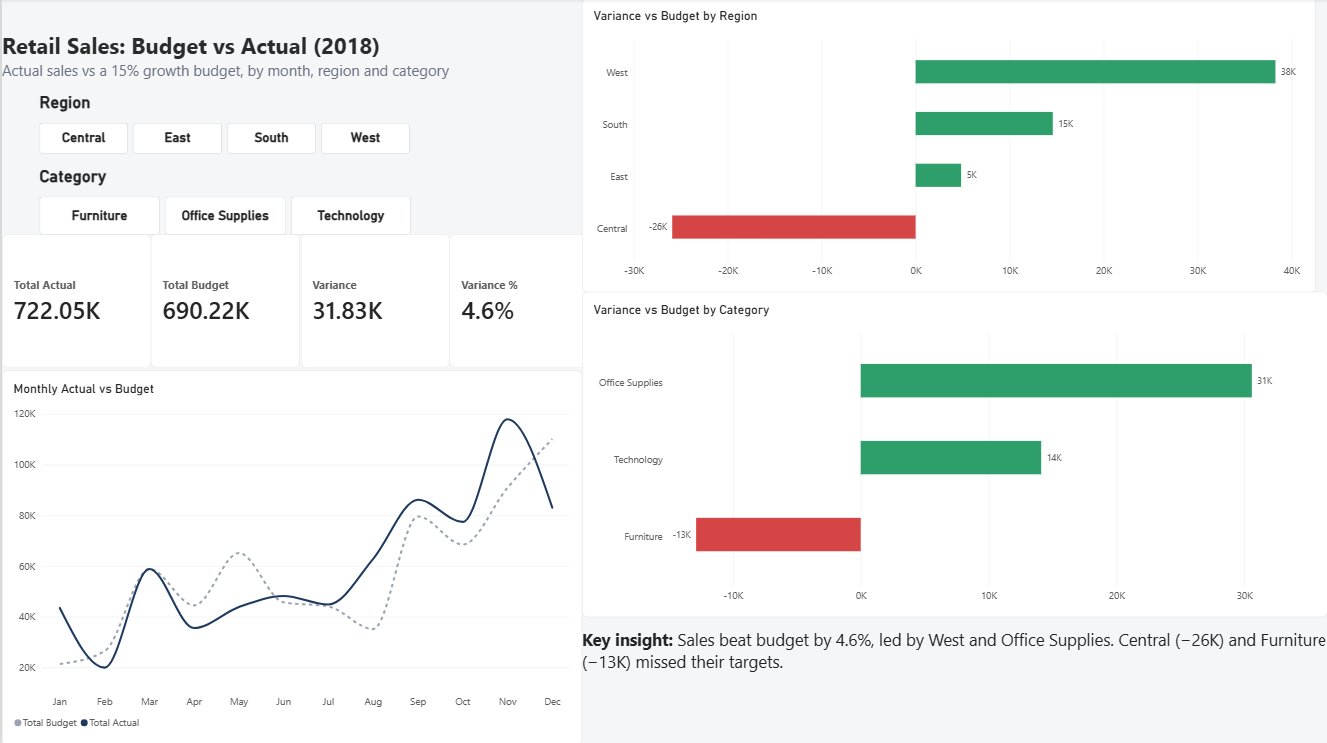

This screenshot's page, from the dashboard's own definition file:
{"tool":"powerbi","page":{"name":"Page 1","canvas":[1920,1080],"ordinal":0},"visuals":[{"type":"cardVisual","fields":{"Data":["Sales.Total Actual"]},"box":[0,342.9,216.1,193.5],"z":0},{"type":"cardVisual","fields":{"Data":["Sales.Total Budget"]},"box":[216.1,342.9,216.1,193.5],"z":1000},{"type":"cardVisual","fields":{"Data":["Sales.Variance"]},"box":[432.2,342.9,216.1,193.5],"z":2000},{"type":"cardVisual","fields":{"Data":["Sales.Variance %"]},"box":[648.4,342.9,216.1,193.5],"z":3000},{"type":"lineChart","title":"Monthly Actual vs Budget","fields":{"Category":["Dim_Date.Month"],"Y":["Sales.Total Budget","Sales.Total Actual"]},"box":[0,539.3,839.8,541.3],"z":4000},{"type":"clusteredBarChart","title":"Variance vs Budget by Region","fields":{"Category":["Dim_Region.Region"],"Y":["Sales.Variance"]},"box":[839.8,0,1062.1,426.1],"z":5000},{"type":"clusteredBarChart","title":"Variance vs Budget by Category","fields":{"Category":["Dim_Category.Category"],"Y":["Sales.Variance"]},"box":[839.8,426.1,1080.6,471.4],"z":6000},{"type":"textbox","box":[0,47.3,648.4,152.3],"z":7000},{"type":"textbox","box":[839.8,911.8,1080.6,84.4],"z":8000},{"type":"advancedSlicerVisual","fields":{"Values":["Dim_Region.Region"]},"box":[53.5,137.9,539.3,88.5],"z":8001},{"type":"advancedSlicerVisual","fields":{"Values":["Dim_Category.Category"]},"box":[53.5,244.9,539.3,98.8],"z":8002}]}

Visuals, with their boxes in screenshot pixels (x1, y1, x2, y2), scaled from the page's 1920x1080 canvas onto the 1327x743 screenshot:
cardVisual - Sales.Total Actual: <box>0,236,149,369</box>
cardVisual - Sales.Total Budget: <box>149,236,299,369</box>
cardVisual - Sales.Variance: <box>299,236,448,369</box>
cardVisual - Sales.Variance %: <box>448,236,597,369</box>
"Monthly Actual vs Budget" lineChart: <box>0,371,580,742</box>
"Variance vs Budget by Region" clusteredBarChart: <box>580,0,1314,293</box>
"Variance vs Budget by Category" clusteredBarChart: <box>580,293,1326,617</box>
textbox: <box>0,33,448,137</box>
textbox: <box>580,627,1326,685</box>
advancedSlicerVisual - Dim_Region.Region: <box>37,95,410,156</box>
advancedSlicerVisual - Dim_Category.Category: <box>37,168,410,236</box>
